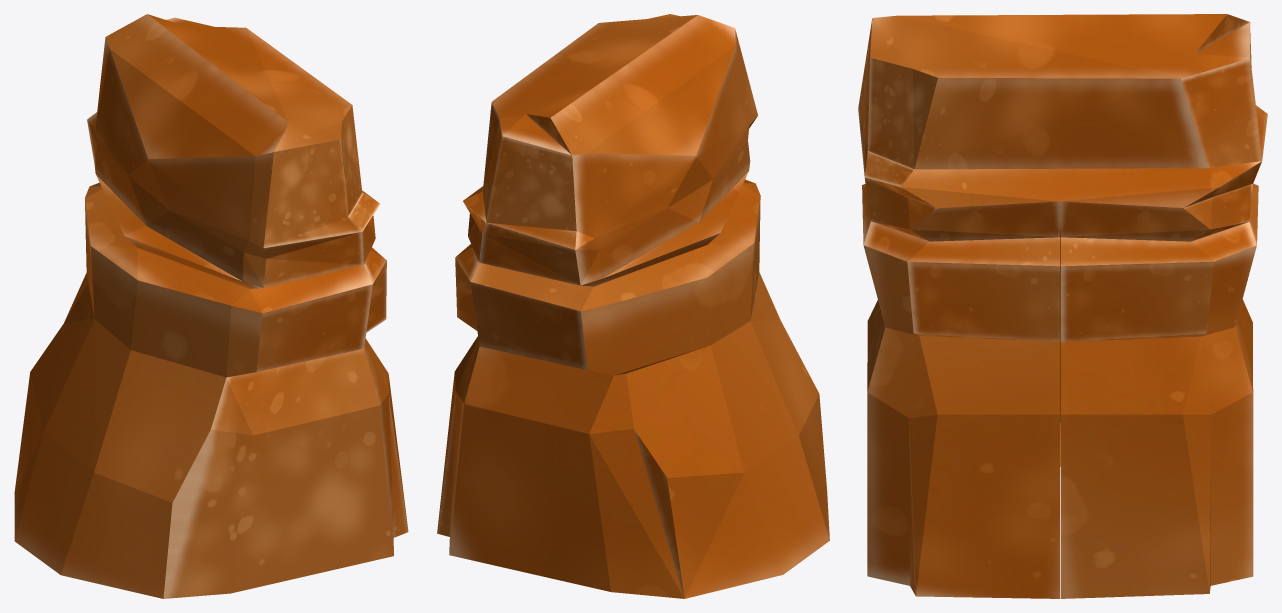
Rendered from CANYON_5.fbx.
3 views of the same model, side by side, from view 1: azimuth 30°, elevation 25°; view 2: azimuth 150°, elevation 25°; view 3: azimuth 270°, elevation 25° (orthographic). The views are drawn at different scales.
Parts seen in each view (by area): view 1: Plane; view 2: Plane; view 3: Plane.
Boxes of the visible parts, left/top/right/bottom form: Plane: left=14, top=14, right=408, bottom=598; Plane: left=437, top=14, right=829, bottom=598; Plane: left=858, top=14, right=1267, bottom=598.
Bounding box in the file's own units: 2141 × 2945 × 2132.
Materials: 1 (1 with a texture image).
